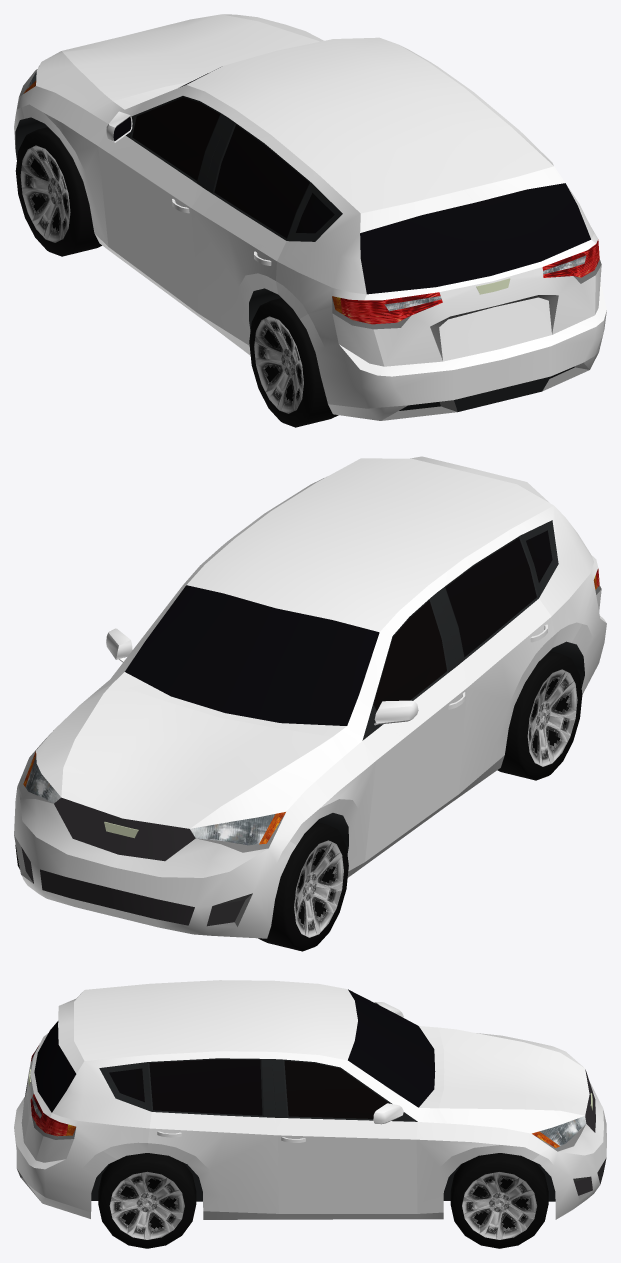
File: aq-crossover.glb
3 renders of one model, top to bottom at view 1: azimuth 30°, elevation 25°; view 2: azimuth 150°, elevation 25°; view 3: azimuth 270°, elevation 25°, orthographic. The views are drawn at different scales.
Visible parts, largest first — view 1: crossover-paint.013, crossover-windows.013, crossover-blackparts.013, crossover-Cylinder.056, crossover-Cylinder.059, crossover-rim.053, crossover-rim.052, crossover-taillights.013, crossover-silvertrim.012, crossover-Cube.135; view 2: crossover-paint.013, crossover-windows.013, crossover-grills.013, crossover-blackparts.013, crossover-Cylinder.056, crossover-Cylinder.059, crossover-rim.052, crossover-rim.053, crossover-headlights.021, crossover-silvertrim.012; view 3: crossover-paint.013, crossover-windows.013, crossover-blackparts.013, crossover-rim.055, crossover-rim.054, crossover-tire.050, crossover-tire.049, crossover-grills.013, crossover-headlights.021, crossover-taillights.013, crossover-silvertrim.012.
Part boxes in pixels (left/top/right/bottom): crossover-paint.013: left=14, top=14, right=606, bottom=420; crossover-windows.013: left=113, top=67, right=590, bottom=294; crossover-blackparts.013: left=15, top=96, right=574, bottom=411; crossover-Cylinder.056: left=15, top=127, right=101, bottom=256; crossover-Cylinder.059: left=249, top=298, right=338, bottom=427; crossover-rim.053: left=254, top=316, right=303, bottom=413; crossover-rim.052: left=20, top=145, right=70, bottom=242; crossover-taillights.013: left=340, top=239, right=599, bottom=324; crossover-silvertrim.012: left=19, top=69, right=601, bottom=420; crossover-Cube.135: left=384, top=255, right=586, bottom=311; crossover-paint.013: left=14, top=456, right=606, bottom=938; crossover-windows.013: left=125, top=530, right=552, bottom=725; crossover-grills.013: left=21, top=797, right=245, bottom=926; crossover-blackparts.013: left=316, top=520, right=584, bottom=853; crossover-Cylinder.056: left=258, top=822, right=348, bottom=951; crossover-Cylinder.059: left=497, top=651, right=582, bottom=780; crossover-rim.052: left=294, top=840, right=343, bottom=937; crossover-rim.053: left=527, top=669, right=577, bottom=766; crossover-headlights.021: left=25, top=756, right=275, bottom=845; crossover-silvertrim.012: left=14, top=585, right=601, bottom=927; crossover-paint.013: left=14, top=980, right=606, bottom=1219; crossover-windows.013: left=34, top=989, right=435, bottom=1118; crossover-blackparts.013: left=91, top=1058, right=555, bottom=1201; crossover-rim.055: left=109, top=1171, right=184, bottom=1239; crossover-rim.054: left=462, top=1172, right=536, bottom=1239; crossover-tire.050: left=98, top=1153, right=196, bottom=1248; crossover-tire.049: left=450, top=1153, right=548, bottom=1248; crossover-grills.013: left=574, top=1069, right=606, bottom=1195; crossover-headlights.021: left=539, top=1116, right=586, bottom=1145; crossover-taillights.013: left=30, top=1045, right=68, bottom=1136; crossover-silvertrim.012: left=17, top=1079, right=592, bottom=1200.
Bounding box in the file's own units: 2.1 × 1.63 × 4.64.
9 materials, 6 textured.
